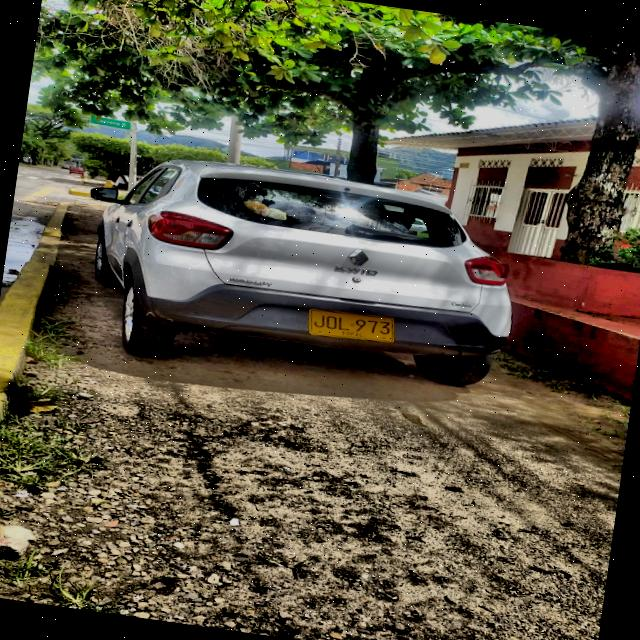plate: (310, 309, 393, 342)
